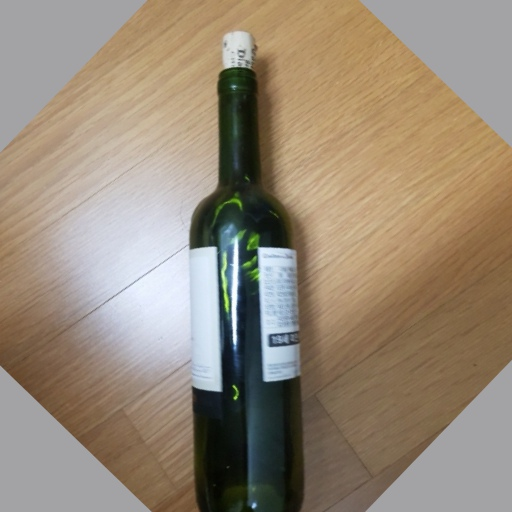Glass_2: (179, 25, 305, 512)
